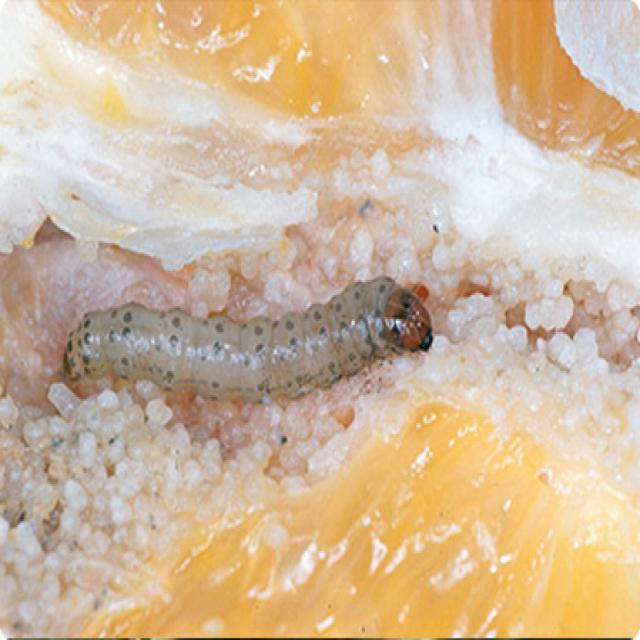cornborer-Larva-: (42, 242, 455, 424)
